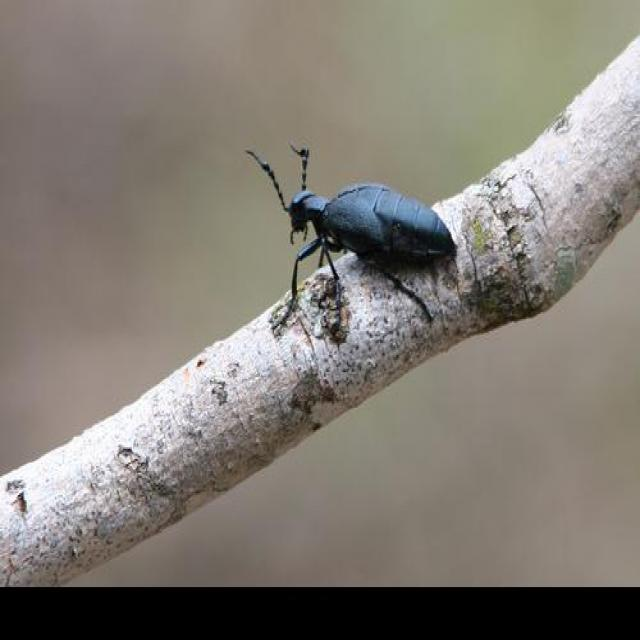BlisterBeetle-Adult-: (239, 128, 474, 343)
